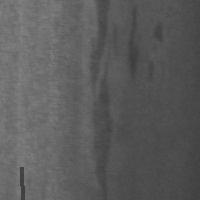inclusion: (85, 1, 116, 196), (121, 2, 144, 88), (147, 18, 167, 50), (19, 165, 24, 200)
